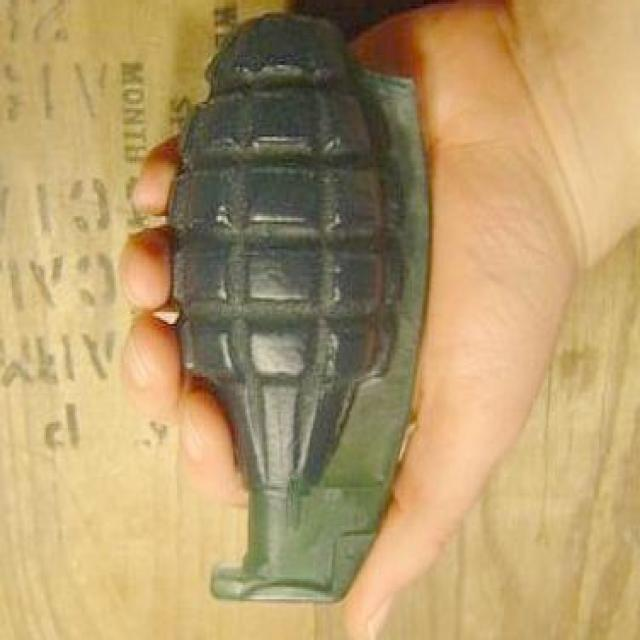grenade: (170, 12, 430, 604)
